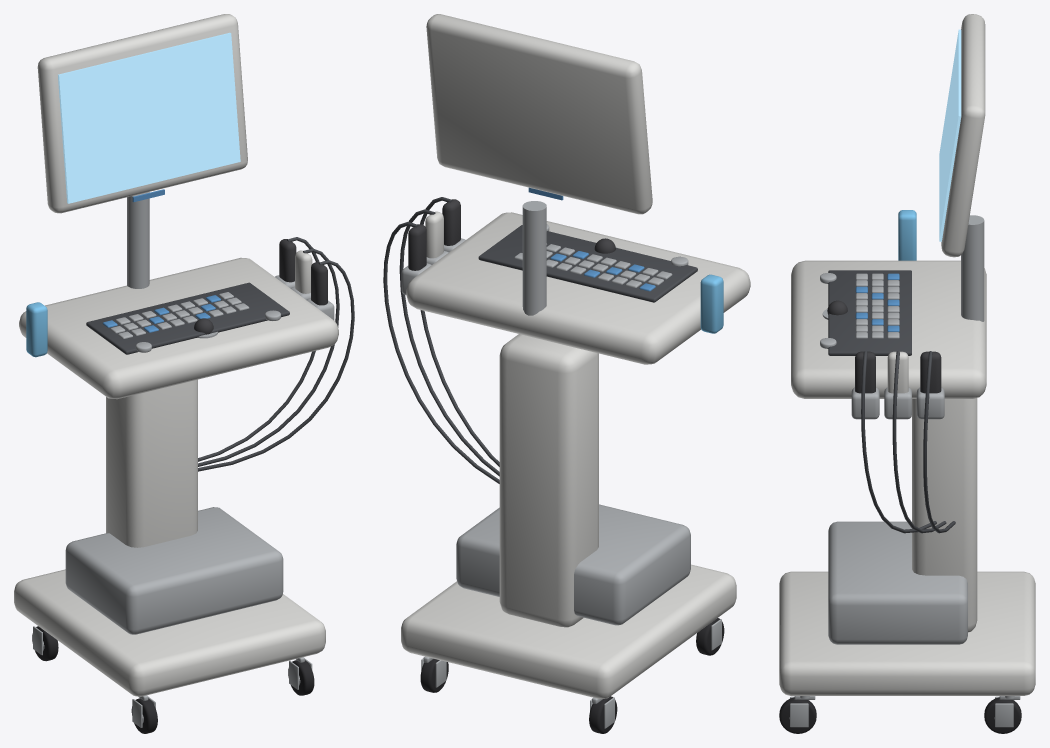
File: echographe.glb
3 renders of one model, left to right at view 1: azimuth 30°, elevation 25°; view 2: azimuth 150°, elevation 25°; view 3: azimuth 270°, elevation 25°, orthographic. The views are drawn at different scales.
Visible parts, largest first — view 1: echographe, Ecran; view 2: echographe; view 3: echographe, Ecran.
Boxes of the visible parts, bbox=[...] form: echographe: bbox=[14, 14, 354, 733]; Ecran: bbox=[58, 32, 240, 203]; echographe: bbox=[383, 14, 750, 733]; echographe: bbox=[779, 14, 1035, 733]; Ecran: bbox=[939, 29, 961, 241].
Bounding box in the file's own units: 0.7772 × 1.5 × 0.55.
